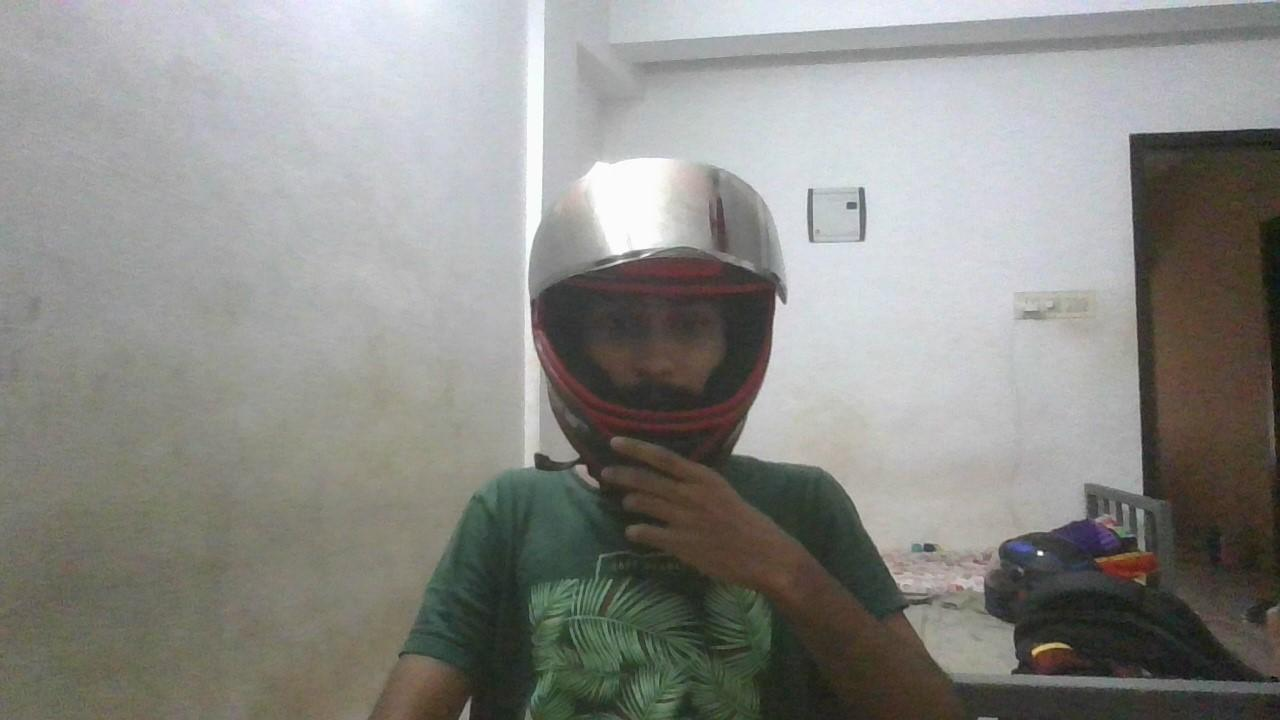helmet: (527, 155, 788, 504)
